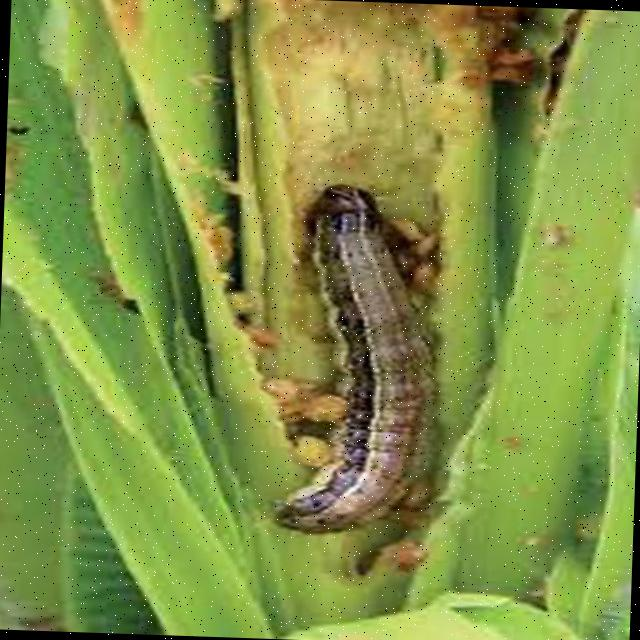worm: (253, 182, 463, 549)
